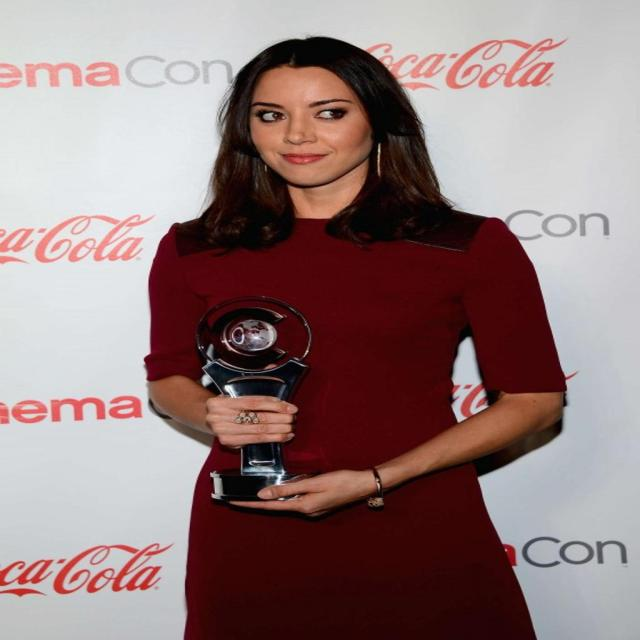Face: (239, 68, 375, 184)
